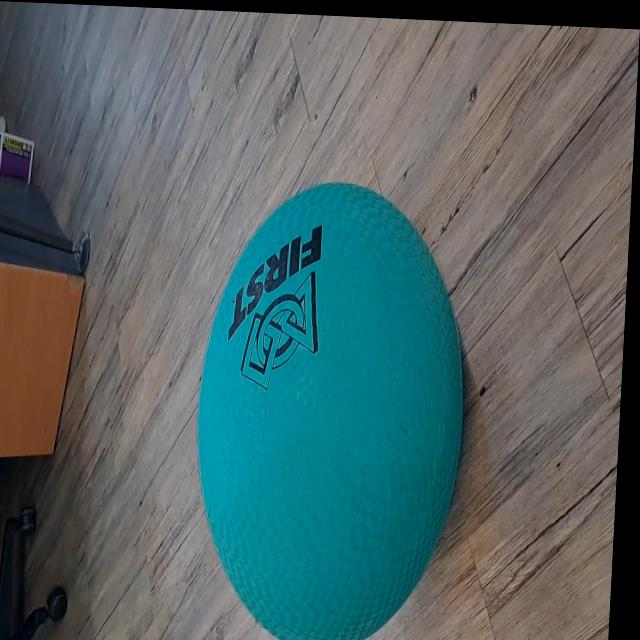ALGAE: (184, 174, 476, 640)
